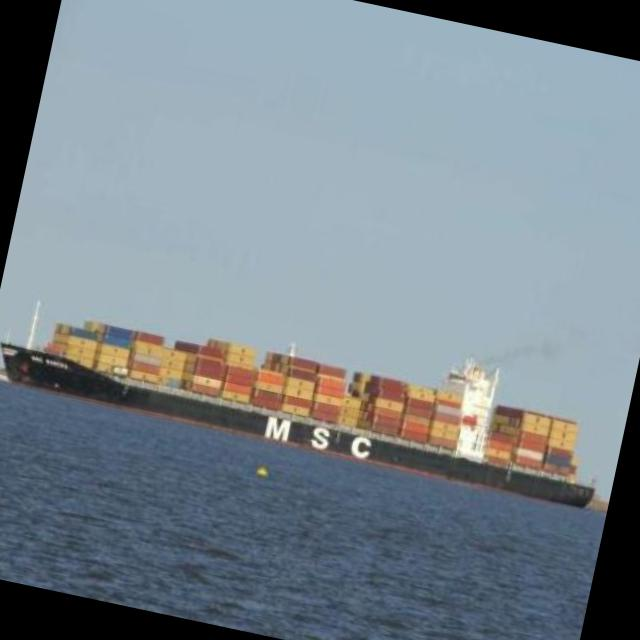boat: (0, 290, 614, 519)
